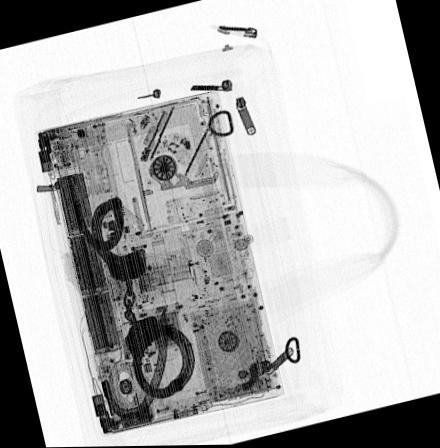HandCuffs: (76, 195, 193, 400)
